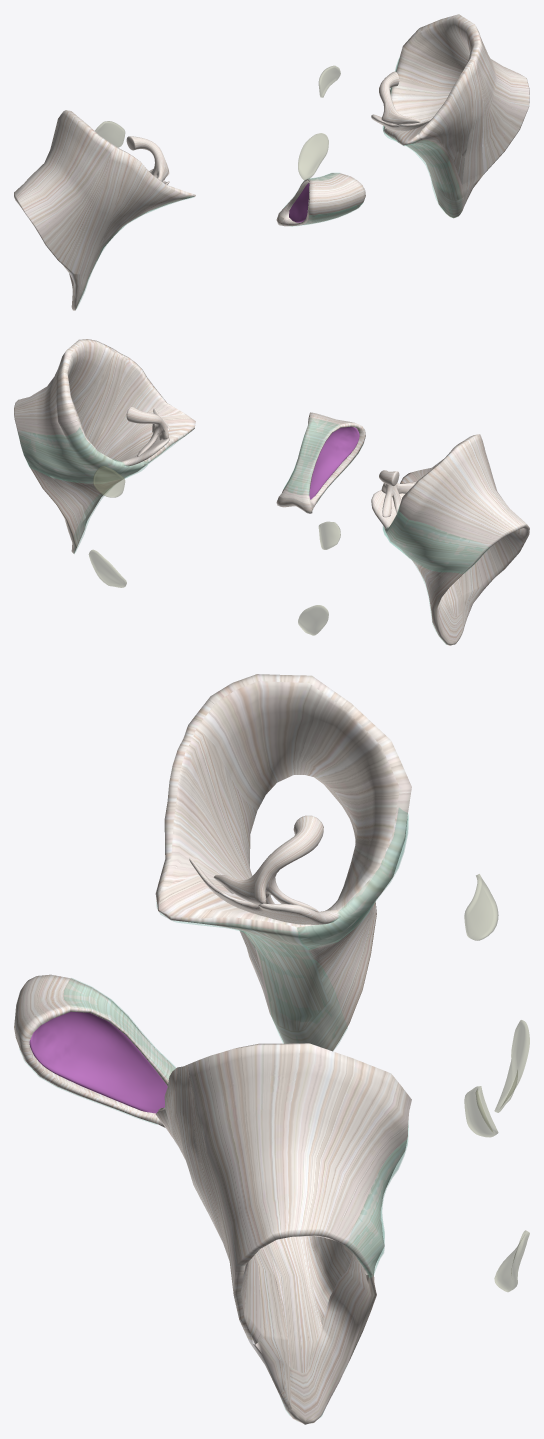
File: hip_attach_s124_male_joints.glb
The picture shows the model from 3 angles, top to bottom: view 1: azimuth 30°, elevation 25°; view 2: azimuth 150°, elevation 25°; view 3: azimuth 270°, elevation 25°; orthographic projection. The views are drawn at different scales.
Visible parts, largest first — view 1: Hip joint capsule.l, Hip joint capsule.r, Sup, Inf, Ant, Post, Pubic ligaments, Pubofemoral ligament.l, Sciatic bursa of gluteus maximus (Ischiogluteal bursa).l, Ligament of head of femur.l, Ligament of head of femur.r, Sciatic bursa of obturator internus.r, Interpubic disc, Sciatic bursa of obturator internus.l, Transverse acetabular ligament.l; view 2: Hip joint capsule.l, Hip joint capsule.r, Ishciofemoral ligament.l, Sup, Inf, Ant, Post, Pubic ligaments, Ishciofemoral ligament.r, Interpubic disc, Posterior pubic ligament, Ligament of head of femur.r, Ligament of head of femur.l, Sciatic bursa of obturator internus.l, Sciatic bursa of gluteus maximus (Ischiogluteal bursa).l, Sciatic bursa of gluteus maximus (Ischiogluteal bursa).r (+3 smaller); view 3: Hip joint capsule.l, Hip joint capsule.r, Interpubic disc, Sup, Inf, Ant, Post, Pubic ligaments, Ligament of head of femur.r, Ishciofemoral ligament.r, Pubofemoral ligament.r, Ishciofemoral ligament.l, Transverse acetabular ligament.r, Posterior pubic ligament, Sciatic bursa of obturator internus.r, Sciatic bursa of gluteus maximus (Ischiogluteal bursa).r (+2 smaller).
Part boxes in pixels (x1,y1,x2,y2): Hip joint capsule.l: [383, 14, 529, 218]; Hip joint capsule.r: [14, 110, 195, 310]; Sup, Inf, Ant, Post, Pubic ligaments: [276, 173, 365, 226]; Pubofemoral ligament.l: [385, 133, 459, 217]; Sciatic bursa of gluteus maximus (Ischiogluteal bursa).l: [298, 133, 328, 179]; Ligament of head of femur.l: [379, 71, 420, 124]; Ligament of head of femur.r: [126, 136, 168, 181]; Sciatic bursa of obturator internus.r: [95, 121, 125, 147]; Interpubic disc: [289, 183, 309, 222]; Sciatic bursa of obturator internus.l: [318, 65, 340, 97]; Transverse acetabular ligament.l: [371, 114, 431, 130]; Hip joint capsule.l: [14, 339, 195, 553]; Hip joint capsule.r: [384, 434, 529, 645]; Ishciofemoral ligament.l: [19, 428, 148, 482]; Sup, Inf, Ant, Post, Pubic ligaments: [276, 412, 365, 513]; Ishciofemoral ligament.r: [383, 506, 488, 573]; Interpubic disc: [309, 426, 359, 499]; Posterior pubic ligament: [284, 418, 339, 495]; Ligament of head of femur.r: [379, 470, 414, 517]; Ligament of head of femur.l: [126, 406, 168, 456]; Sciatic bursa of obturator internus.l: [93, 466, 125, 497]; Sciatic bursa of gluteus maximus (Ischiogluteal bursa).l: [88, 549, 126, 587]; Sciatic bursa of gluteus maximus (Ischiogluteal bursa).r: [298, 605, 328, 635]; Hip joint capsule.l: [155, 1043, 411, 1424]; Hip joint capsule.r: [155, 674, 411, 1051]; Interpubic disc: [29, 1011, 167, 1113]; Sup, Inf, Ant, Post, Pubic ligaments: [14, 974, 175, 1127]; Ligament of head of femur.r: [213, 815, 323, 912]; Ishciofemoral ligament.r: [297, 808, 408, 949]; Pubofemoral ligament.r: [156, 902, 347, 1050]; Ishciofemoral ligament.l: [353, 1126, 408, 1277]; Transverse acetabular ligament.r: [189, 857, 340, 924]; Posterior pubic ligament: [64, 978, 175, 1079]; Sciatic bursa of obturator internus.r: [464, 874, 498, 940]; Sciatic bursa of gluteus maximus (Ischiogluteal bursa).r: [494, 1020, 529, 1112].
Bounding box in the file's own units: 0.2574 × 0.0974 × 0.1177.
Materials: 5 (2 with a texture image).
